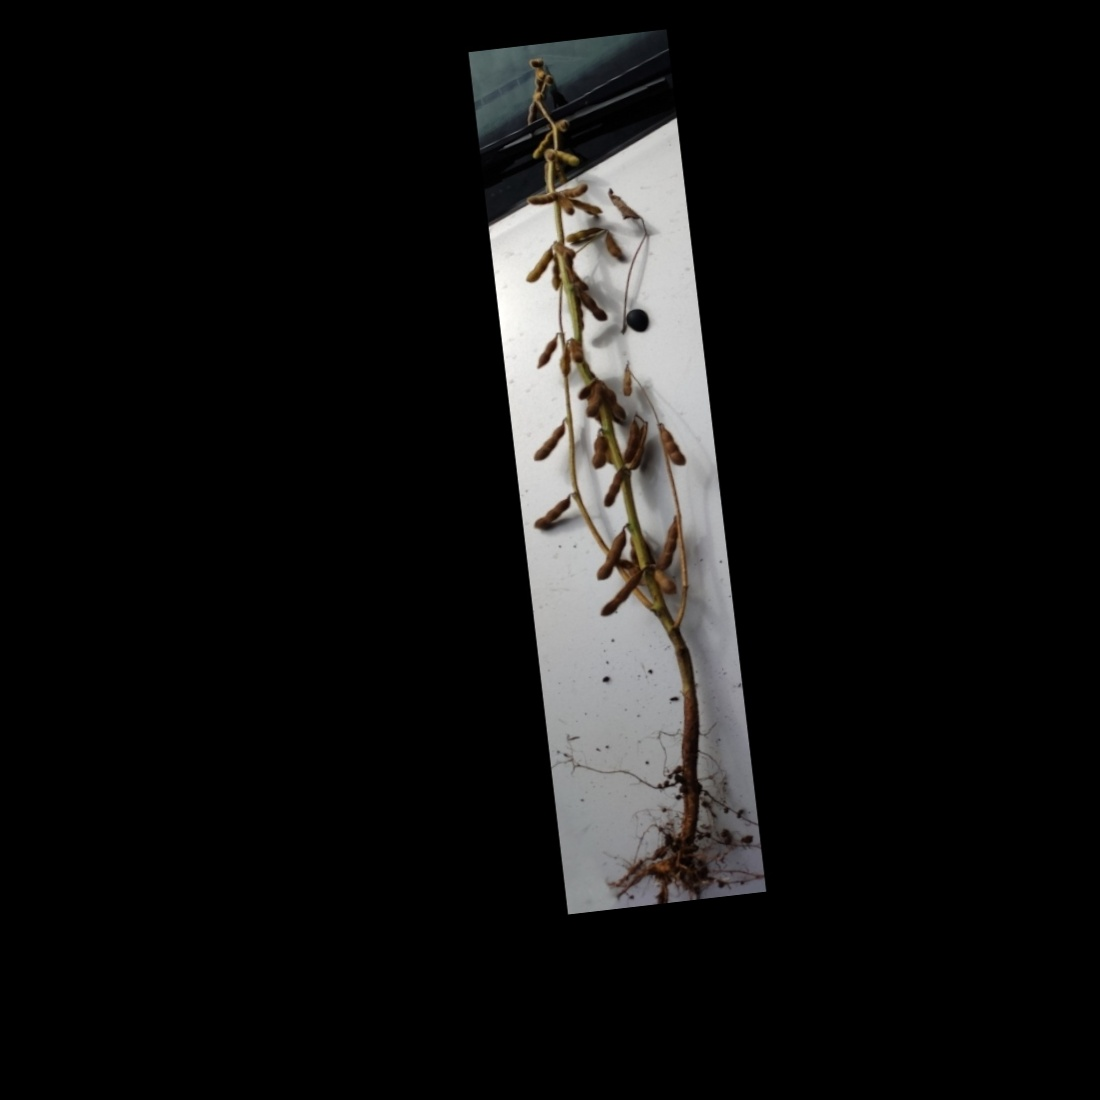pod: (590, 573, 650, 622), (586, 526, 633, 584), (526, 417, 571, 466), (525, 495, 577, 532), (650, 516, 683, 572), (519, 244, 557, 286), (576, 283, 612, 327), (659, 419, 690, 469), (596, 467, 627, 512), (530, 332, 563, 372), (585, 429, 611, 471), (559, 224, 606, 246), (551, 145, 582, 171), (523, 189, 561, 209)
soy: (473, 36, 755, 893)
